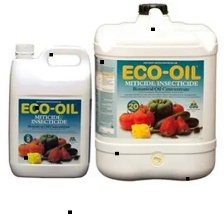insecticide: (91, 1, 220, 184), (5, 40, 94, 182)
